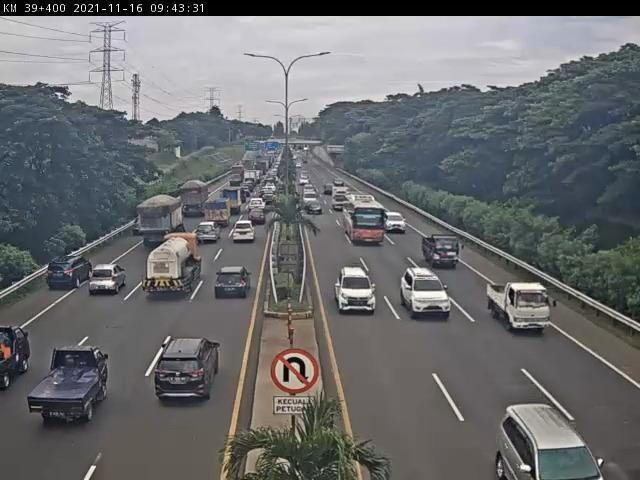bus: (343, 194, 388, 246)
car: (499, 403, 605, 480), (27, 345, 113, 430), (154, 337, 221, 405), (402, 268, 453, 322), (335, 268, 377, 315), (46, 256, 93, 291), (213, 265, 254, 303), (90, 264, 129, 295), (382, 212, 409, 234), (234, 220, 257, 243), (198, 221, 221, 243), (250, 207, 268, 228)
truck: (144, 232, 202, 299), (488, 281, 559, 335), (138, 193, 188, 250), (423, 233, 463, 271), (182, 181, 213, 218), (204, 199, 231, 227)
